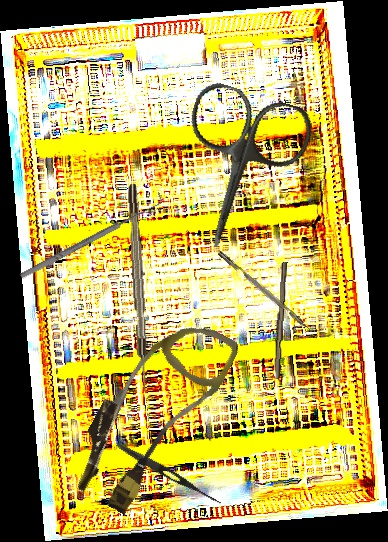Cannula: (60, 299, 243, 527)
Chopper: (217, 245, 322, 339)
Dressing Forceps: (114, 440, 225, 508)
Hook Surgical: (15, 191, 167, 282), (127, 183, 150, 394)
Iris Scissors: (156, 77, 318, 265)
Scalpel Handle: (272, 261, 288, 380)
